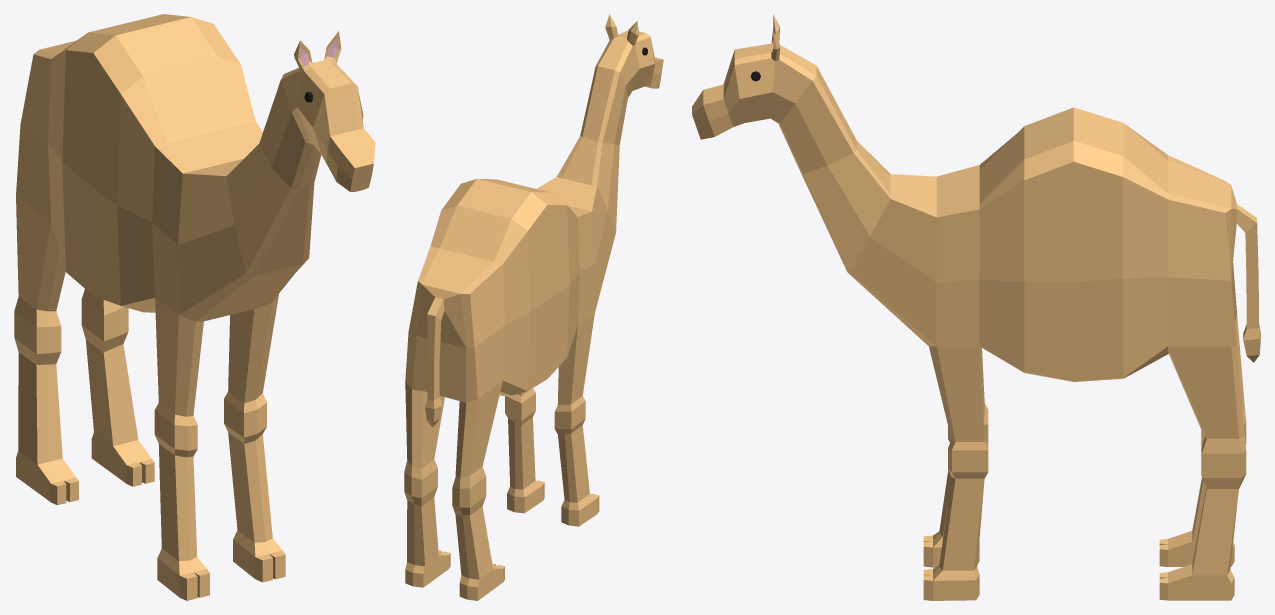
The model's file is camel.glb.
3 renders of one model, left to right at view 1: azimuth 30°, elevation 25°; view 2: azimuth 150°, elevation 25°; view 3: azimuth 270°, elevation 25°, orthographic. The views are drawn at different scales.
Parts seen in each view (by area): view 1: Camal_01_Cube.052; view 2: Camal_01_Cube.052; view 3: Camal_01_Cube.052.
Boxes of the visible parts, x1,y1,x2,y2 form: Camal_01_Cube.052: (14,14,375,600); Camal_01_Cube.052: (404,14,663,600); Camal_01_Cube.052: (692,14,1260,600).
Bounding box in the file's own units: 2.71 × 12.47 × 11.57.
